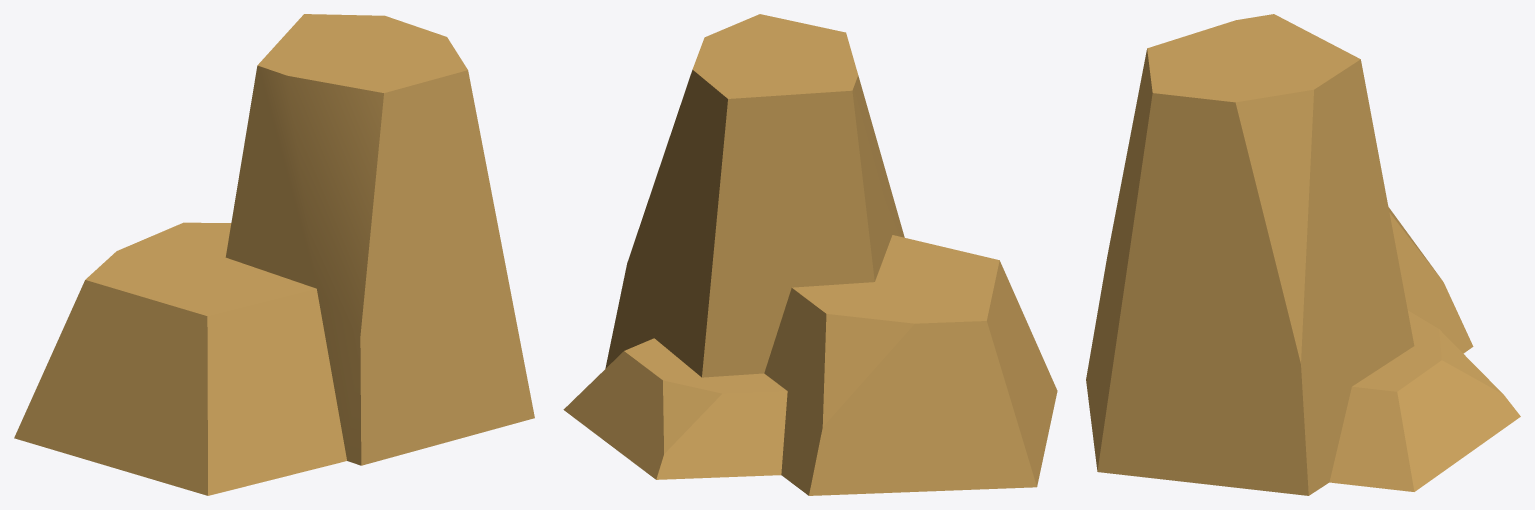
Rendered from rockA.obj.
The picture shows the model from 3 angles, left to right: view 1: azimuth 30°, elevation 25°; view 2: azimuth 150°, elevation 25°; view 3: azimuth 270°, elevation 25°; orthographic projection. The views are drawn at different scales.
Visible parts, largest first — view 1: rockA; view 2: rockA; view 3: rockA.
Boxes of the visible parts, x1,y1,x2,y2 form: rockA: (14,14,534,495); rockA: (563,14,1057,495); rockA: (1086,14,1520,495).
Size of the model in its own units: 0.5552 by 0.3927 by 0.4324.
